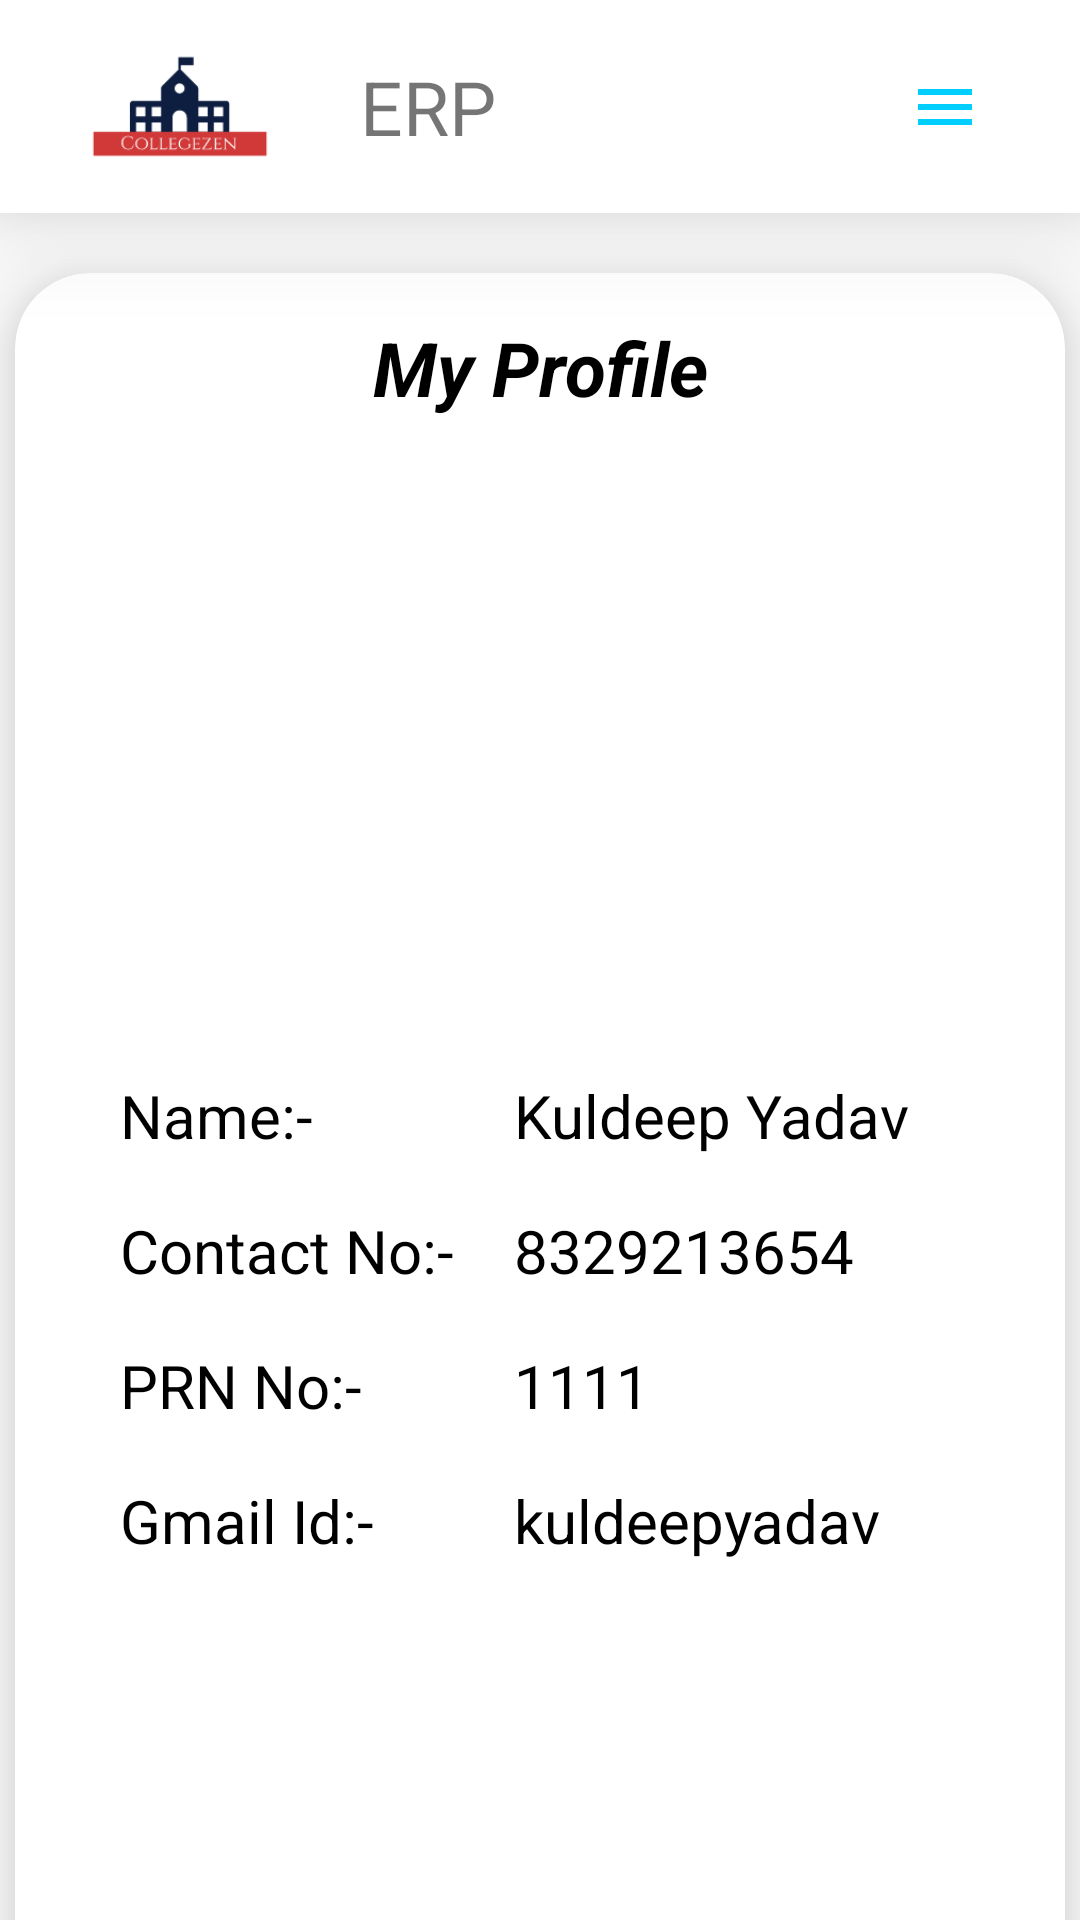

Screen size 1080x1920. Icon name, then its center in pixels as point (x, y):
menu: point (945, 107)
